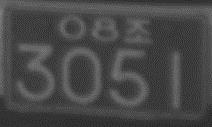0: (60, 45, 102, 105), (57, 13, 86, 39)
1: (161, 49, 194, 108)
3: (16, 41, 55, 102)
5: (109, 46, 149, 109)
8: (91, 14, 119, 42)
조: (122, 15, 152, 44)
